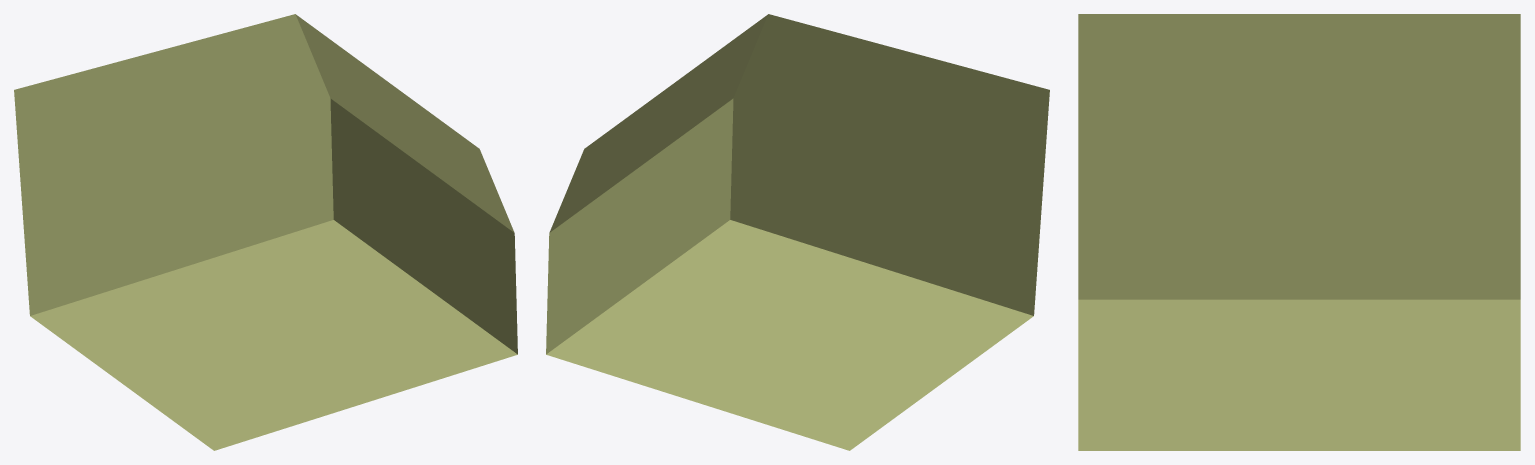
3 views of the same model, side by side, from view 1: azimuth 30°, elevation 25°; view 2: azimuth 150°, elevation 25°; view 3: azimuth 270°, elevation 25° (orthographic). The views are drawn at different scales.
Visible parts, largest first — view 1: 0_3_0_1_1_2_0_1_1_3_3; view 2: 0_3_0_1_1_2_0_1_1_3_3; view 3: 0_3_0_1_1_2_0_1_1_3_3.
Boxes of the visible parts, x1=… form: 0_3_0_1_1_2_0_1_1_3_3: x1=14, y1=14, x2=517, y2=450; 0_3_0_1_1_2_0_1_1_3_3: x1=546, y1=14, x2=1049, y2=450; 0_3_0_1_1_2_0_1_1_3_3: x1=1078, y1=14, x2=1520, y2=450.
Size of the model in its own units: 9.02 by 6.4 by 9.
